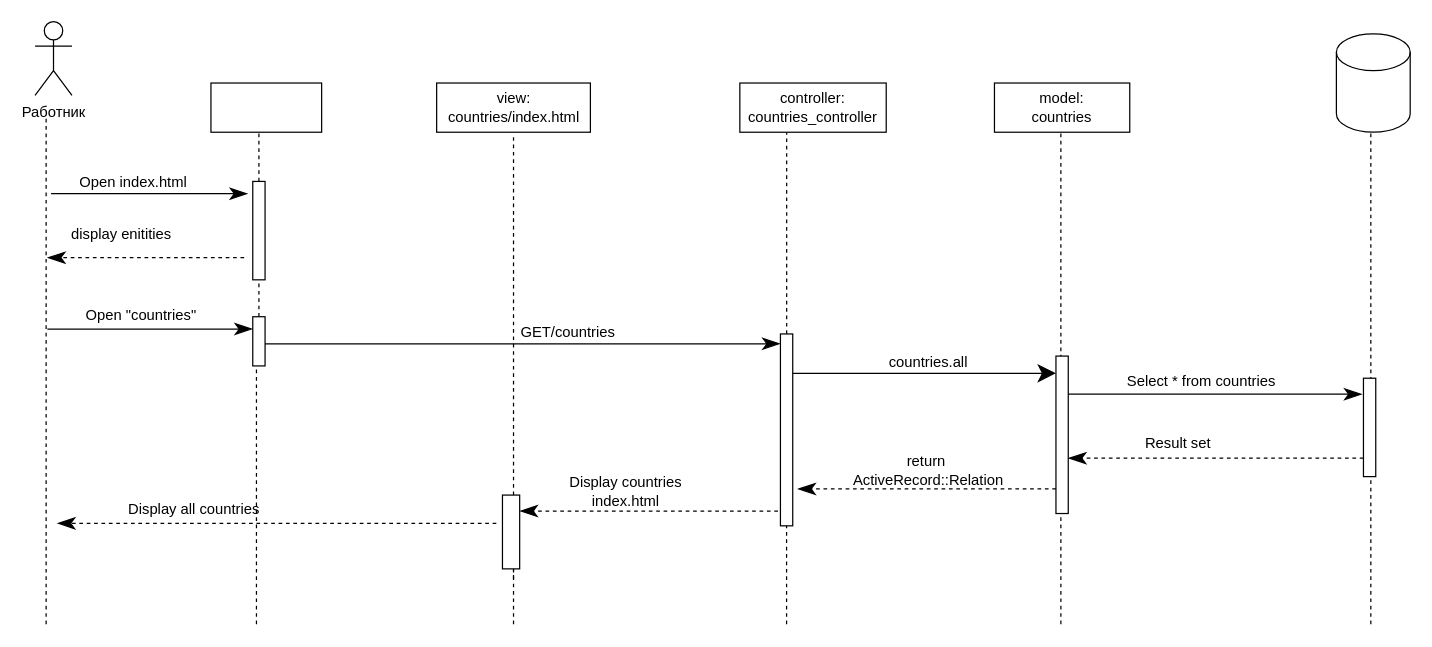
Image size: 1432x647. Some labels were removed from this diagram. The centre of each missing label's shape, as x and y in pixels:
"DB" goes at [1372,82].
"view:home.html" goes at [266,107].
